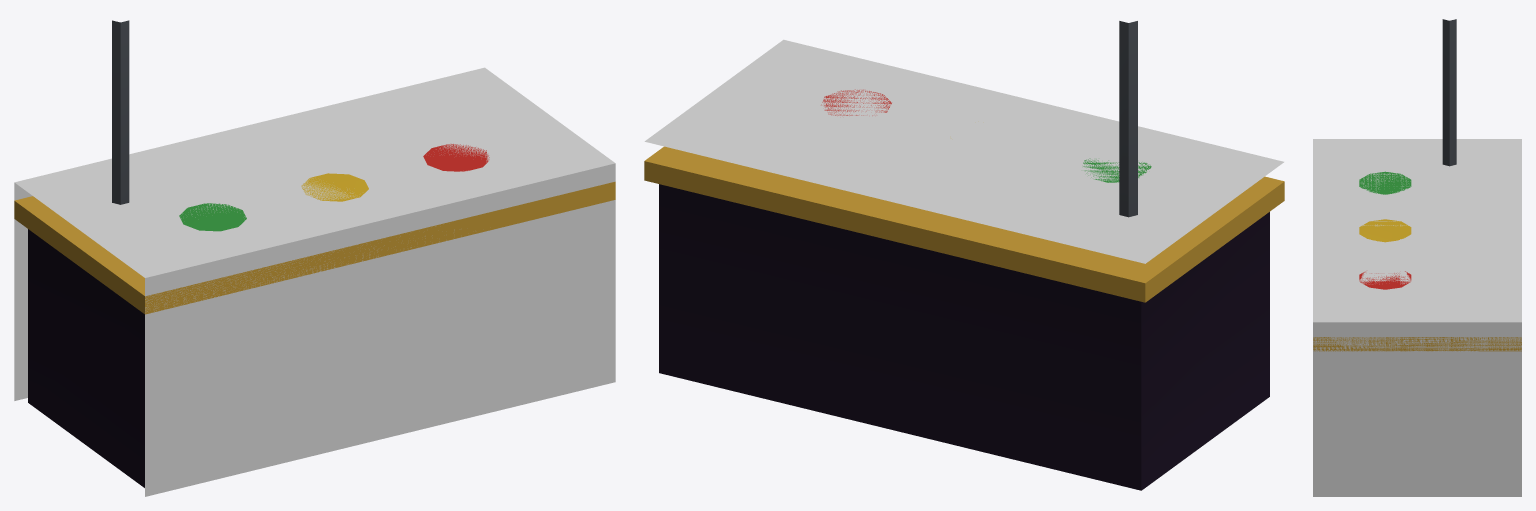
File: crash_cabinet.glb
3 views of the same model, side by side, from view 1: azimuth 30°, elevation 25°; view 2: azimuth 150°, elevation 25°; view 3: azimuth 270°, elevation 25° (orthographic). The views are drawn at different scales.
Visible parts, largest first — view 1: COL_0, crash_cabinet; view 2: crash_cabinet, COL_0; view 3: COL_0, crash_cabinet.
Boxes of the visible parts, <box> form: COL_0: <box>14,67,615,496</box>; crash_cabinet: <box>14,20,615,487</box>; crash_cabinet: <box>644,21,1284,490</box>; COL_0: <box>644,39,1283,263</box>; COL_0: <box>1313,139,1521,496</box>; crash_cabinet: <box>1313,19,1521,351</box>.
Size of the model in its own units: 2.7 by 2.2 by 1.3.
